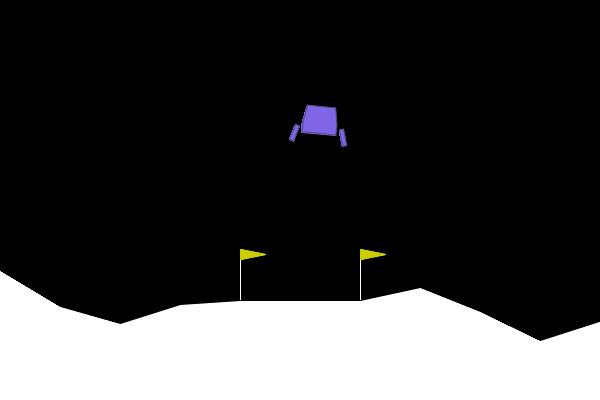lander: (288, 102, 351, 148)
